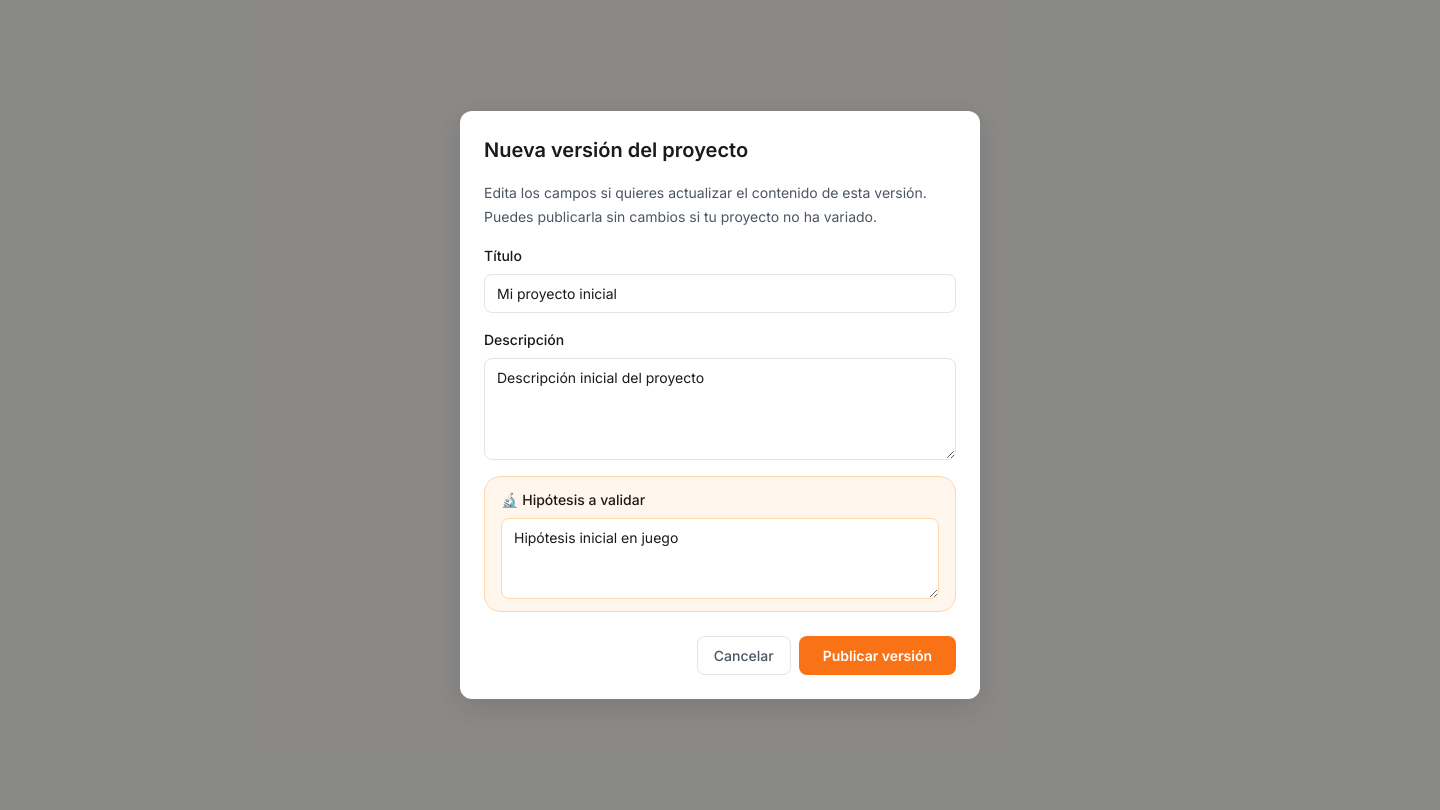
Test case: NewVersionModal — manejo de errores › muestra el mensaje de error cuando publishIteration falla
Step 1. Click the button with test id "new-version-submit" → (877, 656), box 799,636 -> 956,675
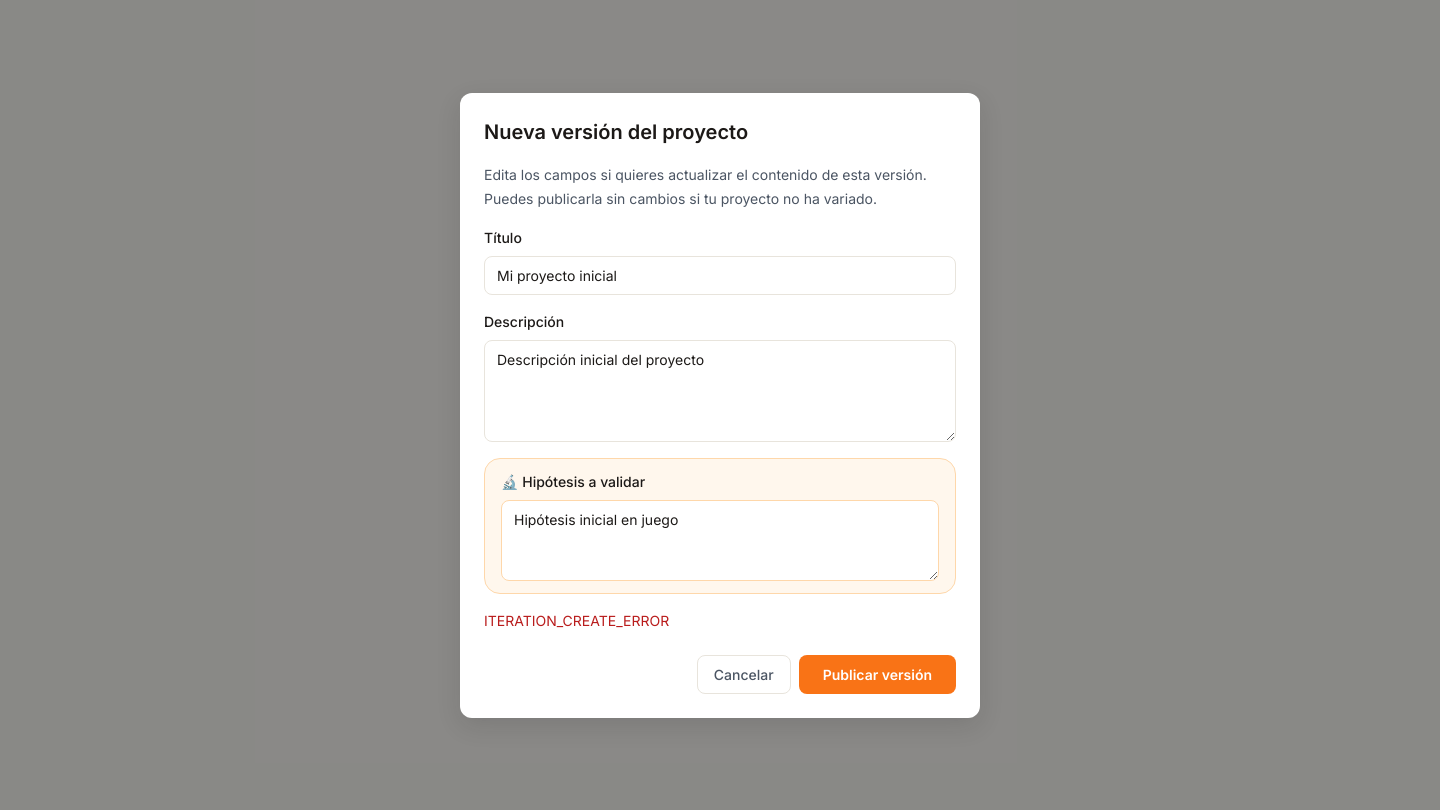
Expected: the text "ITERATION_CREATE_ERROR" is shown, 484,612 -> 669,628
